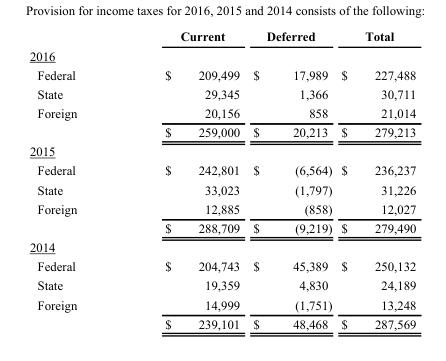table: (28, 28, 415, 330)
table column: (120, 28, 245, 330), (28, 28, 120, 330), (245, 28, 336, 330), (336, 28, 415, 330)
table column header: (28, 28, 415, 45)
table projected row header: (28, 45, 415, 64), (28, 141, 415, 160), (28, 237, 415, 256)
table row: (28, 83, 415, 103), (28, 198, 415, 218), (28, 45, 415, 64), (28, 64, 415, 83), (28, 103, 415, 122), (28, 122, 415, 141), (28, 141, 415, 160), (28, 160, 415, 179), (28, 179, 415, 198), (28, 218, 415, 237), (28, 237, 415, 256), (28, 256, 415, 275), (28, 275, 415, 294), (28, 294, 415, 313), (28, 28, 415, 45), (28, 313, 415, 330)
